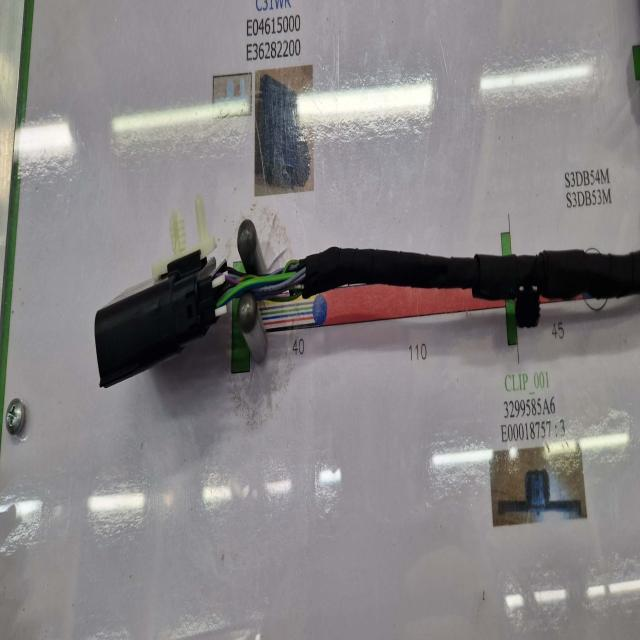Clip: (515, 285, 540, 328)
Connector: (95, 250, 220, 388)
Gape: (212, 243, 318, 326)
MHEV_N11_Cable: (299, 248, 640, 302)
